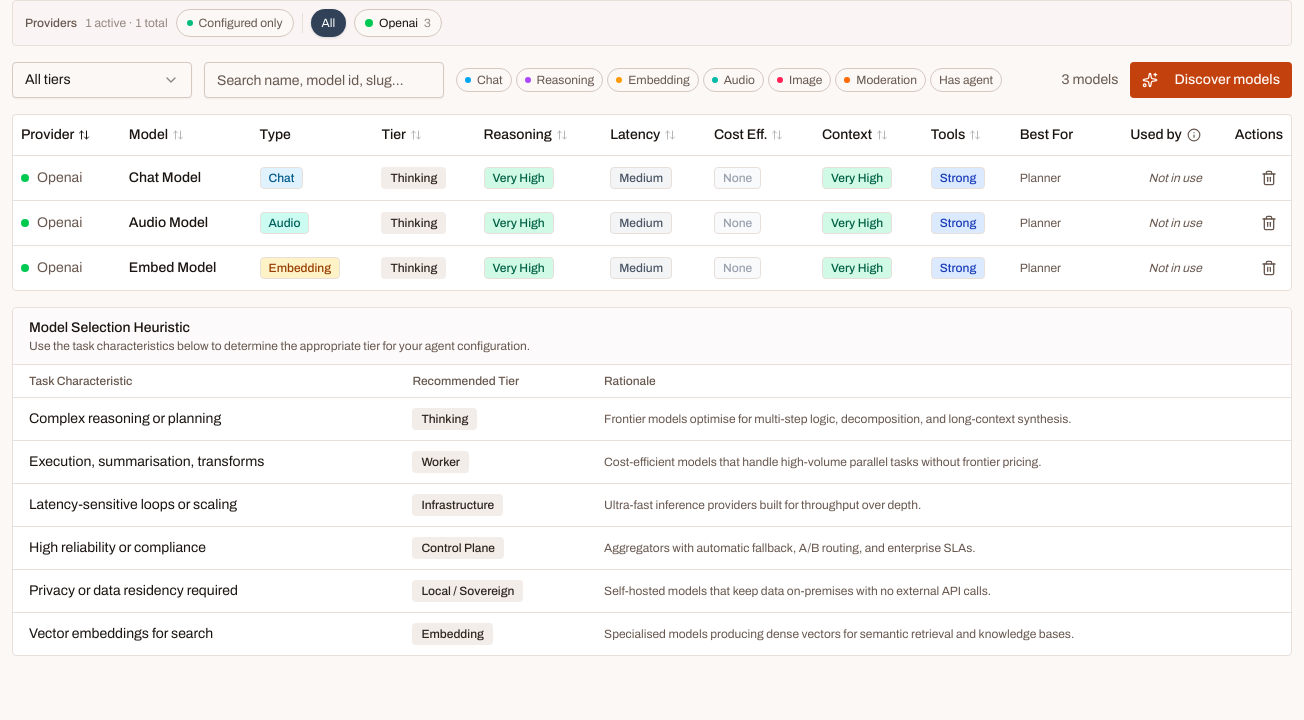
Test: ProviderModelsMatrix › chip filter uses OR semantics — selecting Chat and Audio shows both
Click the button "Chat" at (484, 80), box [456,68,512,92]
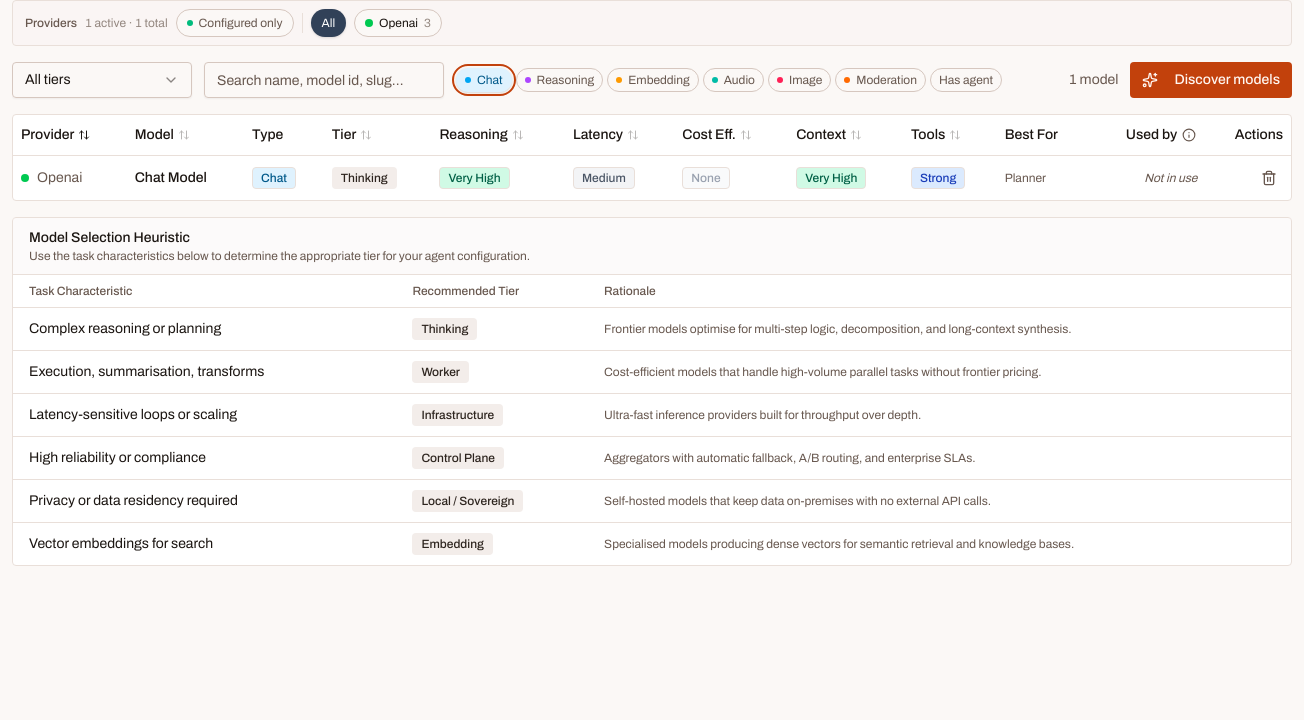
Click the button "Audio" at (733, 80), box [703,68,764,92]
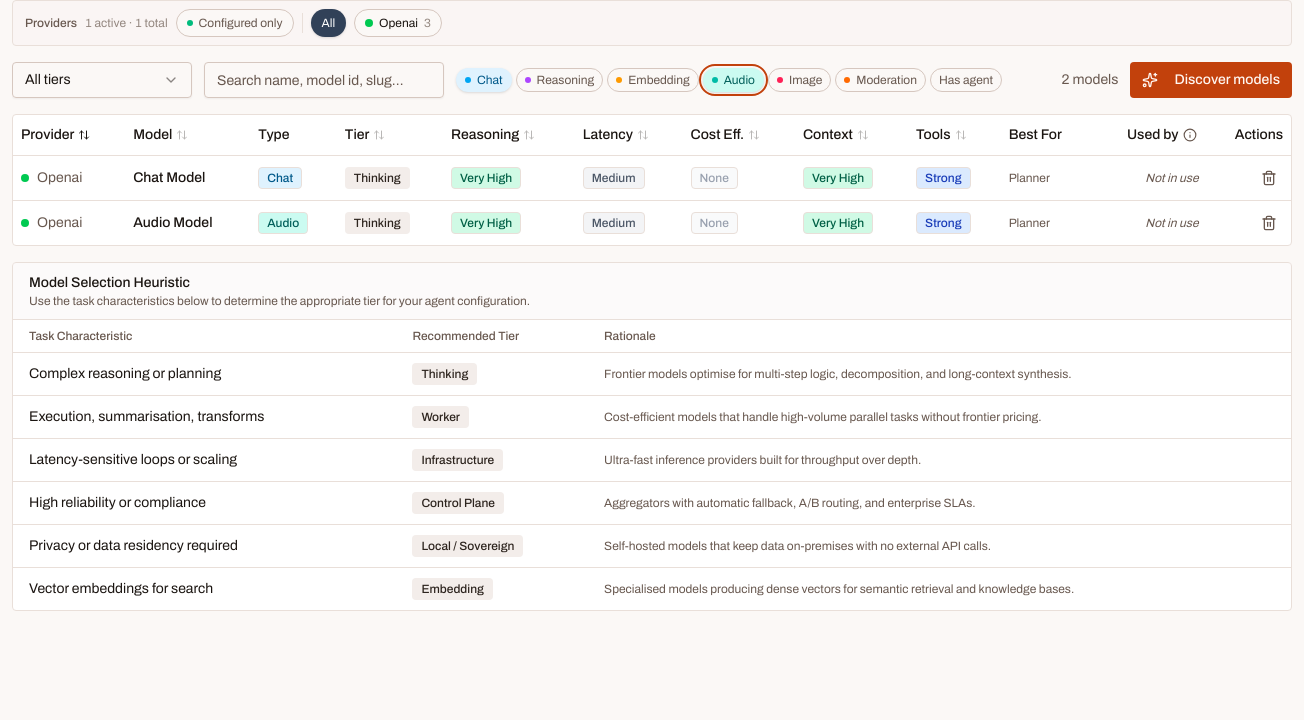
Check: the link "Chat Model" is shown, box [133,170,205,184]
Check: the link "Audio Model" is shown, box [133,214,212,230]
